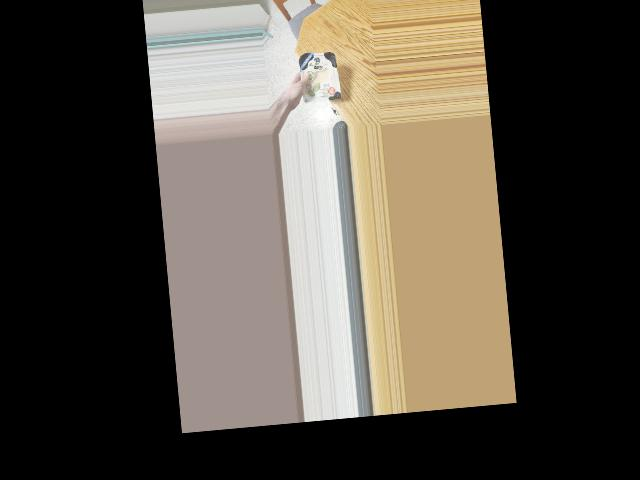cheese: (295, 39, 341, 113)
